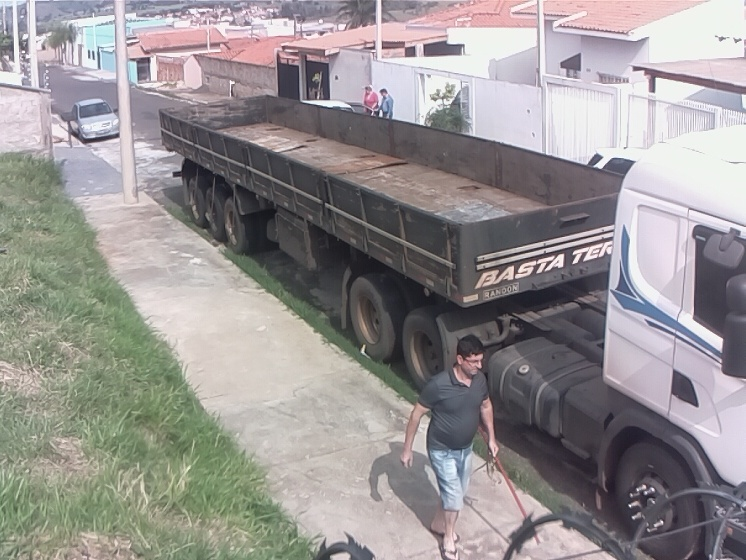person: (398, 335, 503, 560), (362, 84, 379, 118), (380, 87, 395, 121)
